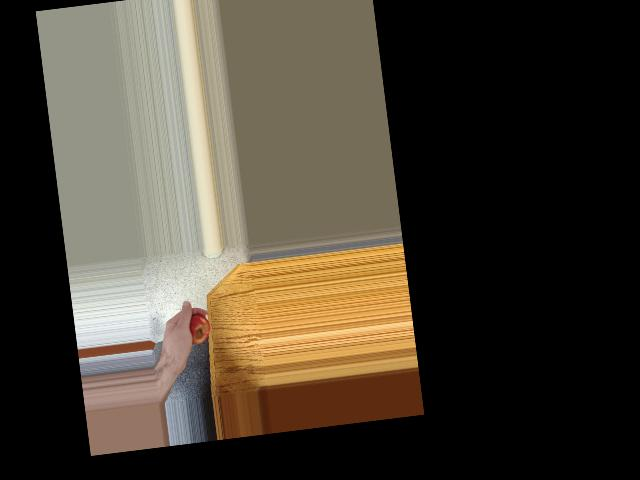apple: (179, 313, 211, 346)
